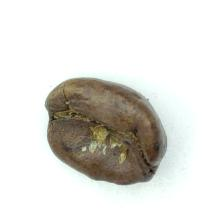NG: (44, 100, 151, 186)
